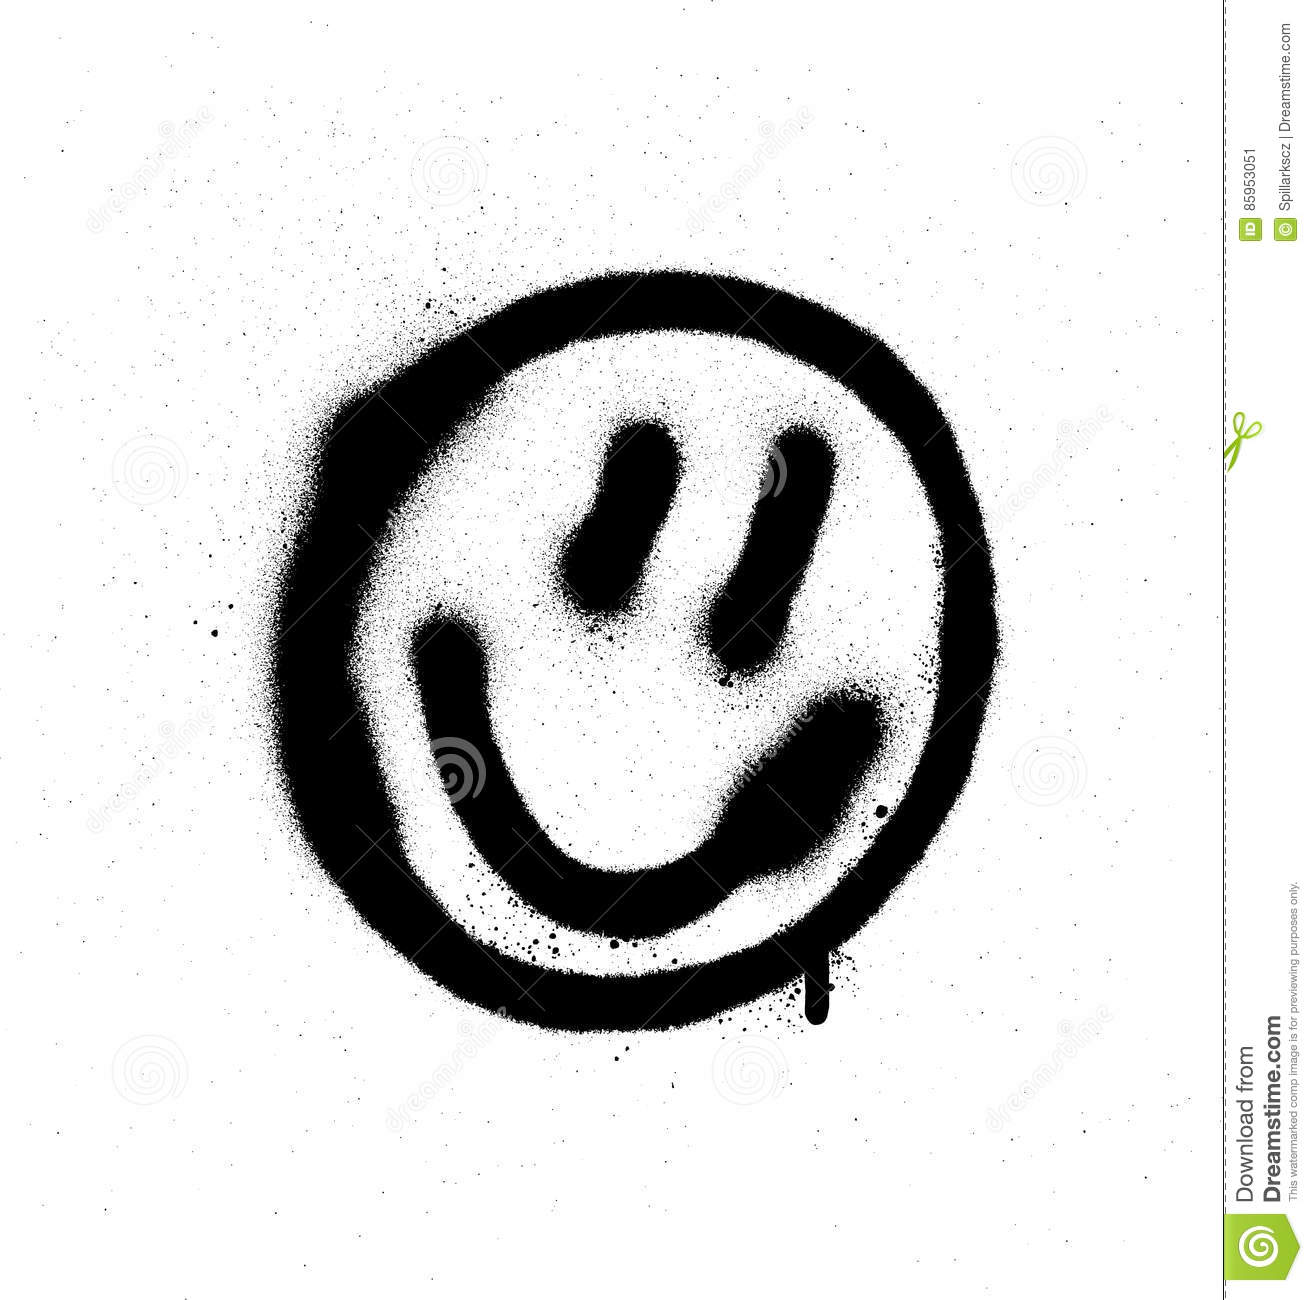feliz: (179, 242, 1033, 1079), (411, 406, 909, 912)
